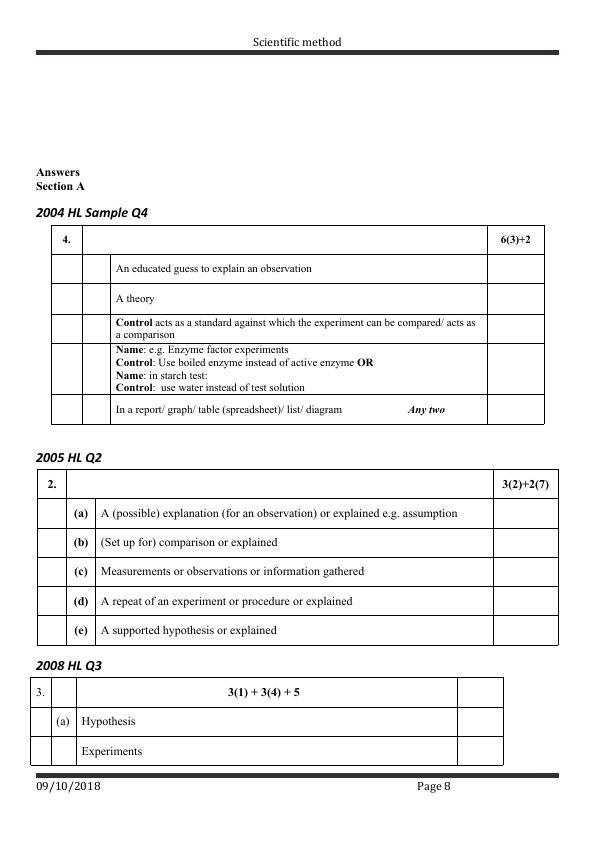table: (49, 222, 551, 434), (33, 466, 564, 651), (26, 674, 510, 769)
text: (33, 164, 95, 197), (33, 206, 153, 222), (31, 656, 104, 674), (33, 447, 102, 465)
